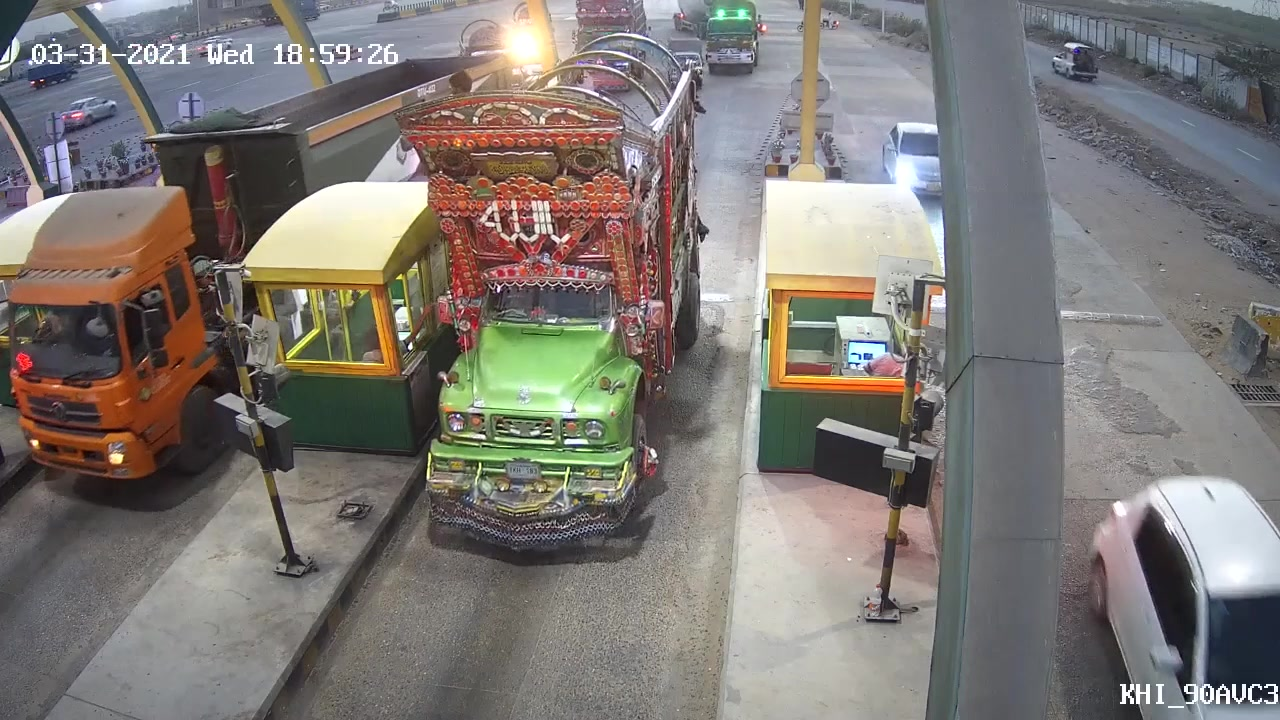F5: (390, 75, 647, 558)
